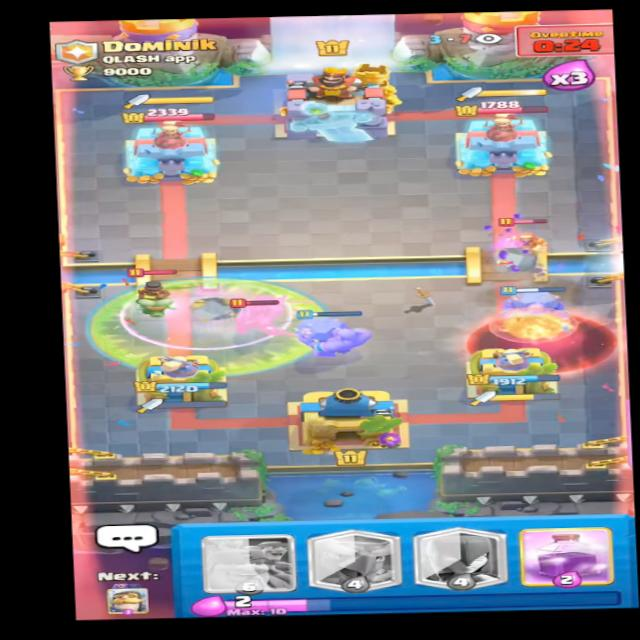pekka: (204, 288, 306, 338)
ram-rider: (127, 261, 187, 318)
void: (465, 309, 617, 378)
wizard: (493, 216, 556, 260)
